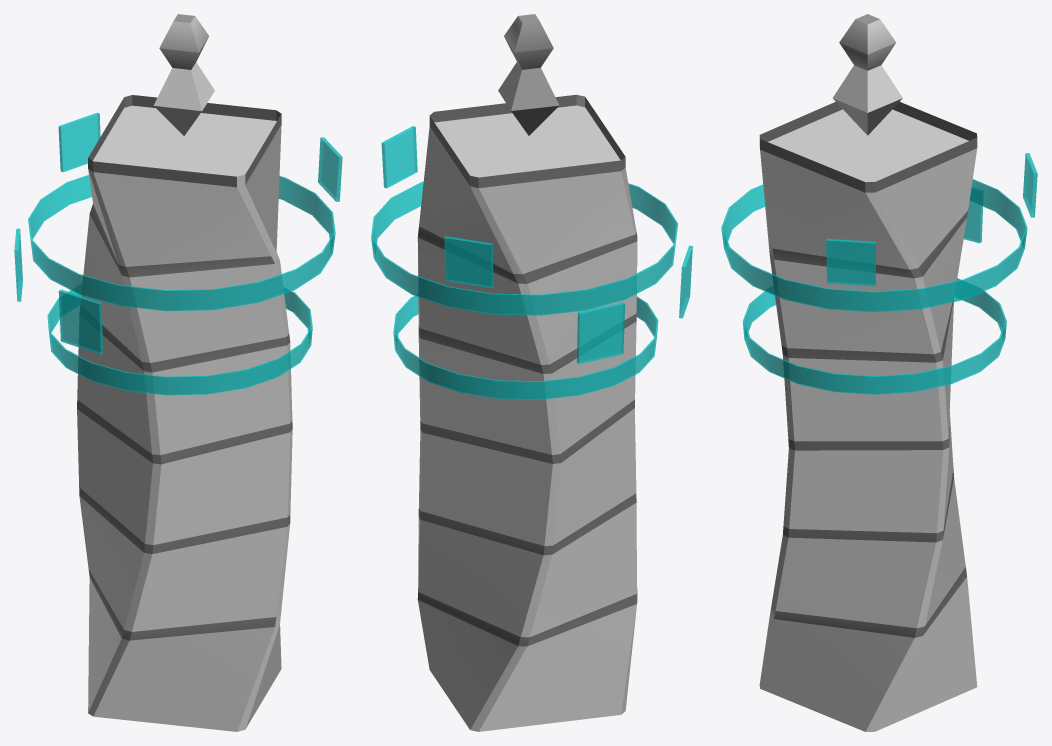
Rendered from Twist Tower.fbx.
The picture shows the model from 3 angles, left to right: view 1: azimuth 30°, elevation 25°; view 2: azimuth 150°, elevation 25°; view 3: azimuth 270°, elevation 25°; orthographic projection.
Parts seen in each view (by area): view 1: Twist_tower, Ring1, Ring2, Diamond, Ring4, Ring3; view 2: Twist_tower, Ring1, Ring2, Diamond, Ring4, Ring3; view 3: Twist_tower, Ring1, Ring2, Diamond, Ring4, Ring3.
Part boxes in pixels (left/top/right/bottom): Twist_tower: left=77, top=95, right=292, bottom=731; Ring1: left=28, top=175, right=335, bottom=311; Ring2: left=47, top=284, right=312, bottom=395; Diamond: left=153, top=14, right=214, bottom=135; Ring4: left=58, top=112, right=342, bottom=201; Ring3: left=14, top=228, right=102, bottom=354; Twist_tower: left=417, top=94, right=637, bottom=731; Ring1: left=371, top=181, right=678, bottom=315; Ring2: left=393, top=295, right=658, bottom=399; Diamond: left=498, top=14, right=559, bottom=135; Ring4: left=381, top=126, right=493, bottom=288; Ring3: left=577, top=245, right=692, bottom=363; Twist_tower: left=759, top=102, right=977, bottom=731; Ring1: left=721, top=179, right=1027, bottom=312; Ring2: left=742, top=278, right=1006, bottom=394; Diamond: left=833, top=14, right=902, bottom=135; Ring4: left=826, top=153, right=1037, bottom=286; Ring3: left=963, top=188, right=982, bottom=243.
Size of the model in its own units: 56.5 by 127 by 54.87.
